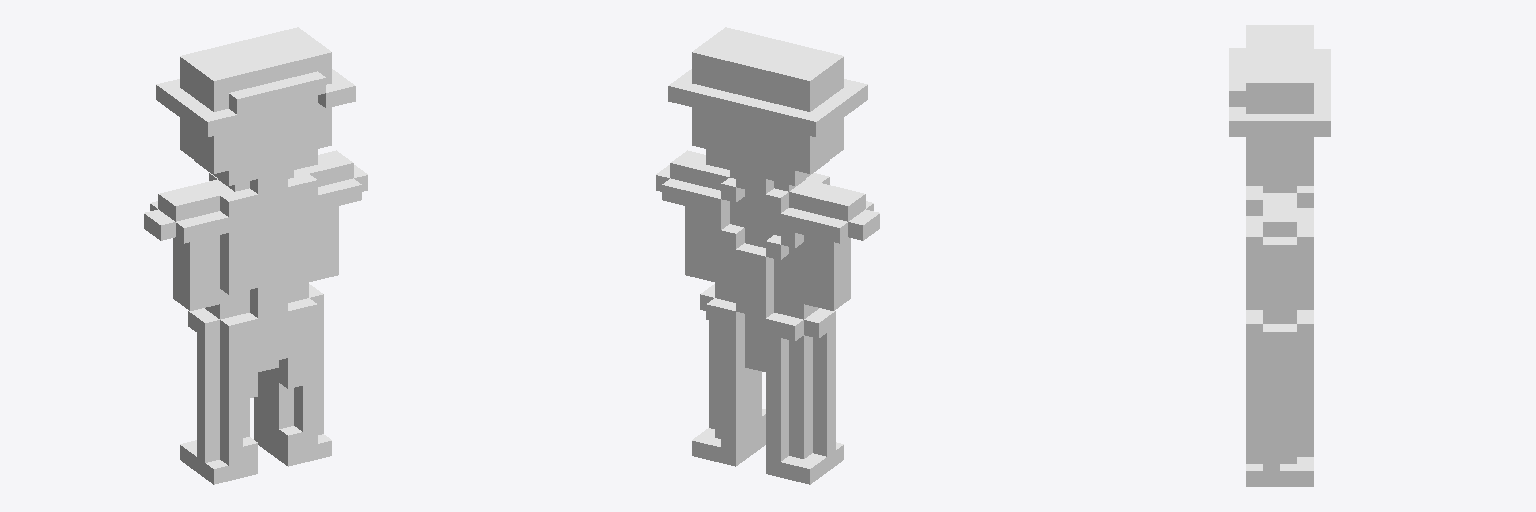
The model's file is SoldatVox.obj.
3 views of the same model, side by side, from view 1: azimuth 30°, elevation 25°; view 2: azimuth 150°, elevation 25°; view 3: azimuth 270°, elevation 25° (orthographic).
Parts seen in each view (by area): view 1: SoldatVox; view 2: SoldatVox; view 3: SoldatVox.
Boxes of the visible parts, <box> form: SoldatVox: <box>144,27,367,484</box>; SoldatVox: <box>656,27,879,484</box>; SoldatVox: <box>1229,25,1330,486</box>.
Bounding box in the file's own units: 14 × 26 × 6.